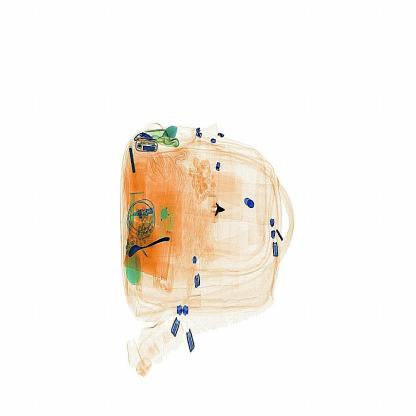gun: (202, 191, 237, 235)
